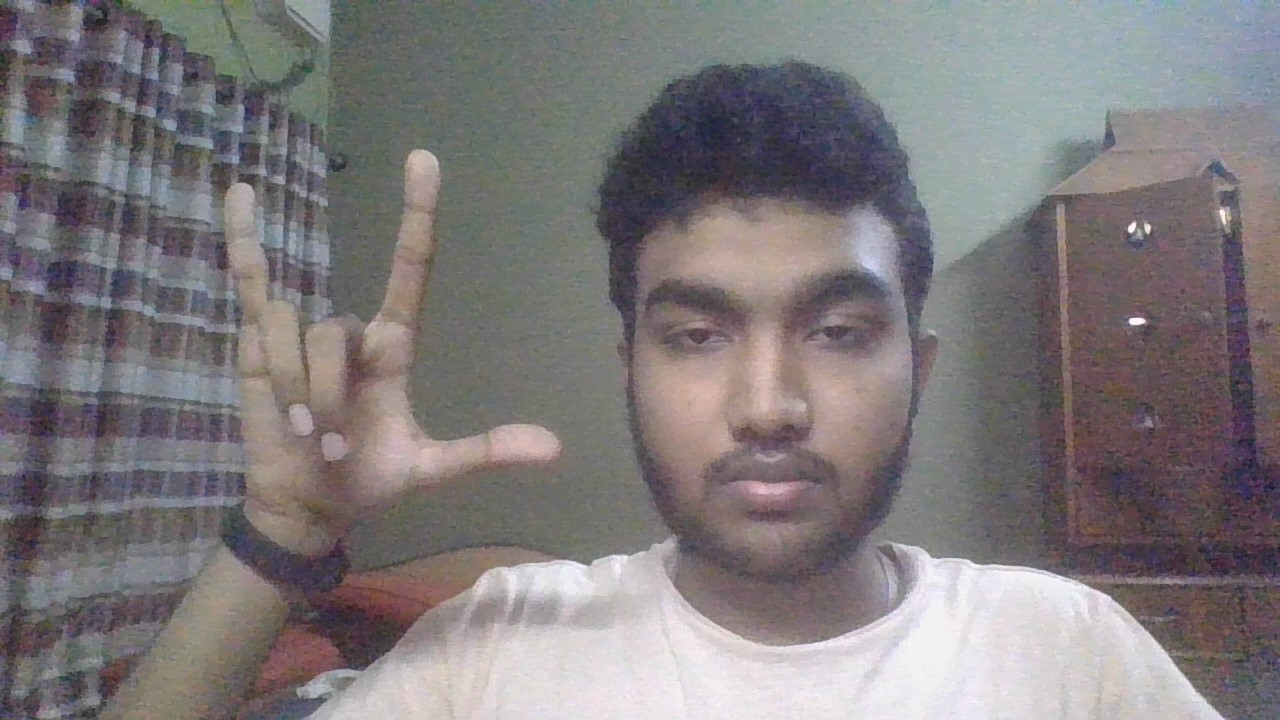I Love You: (189, 138, 562, 577)
